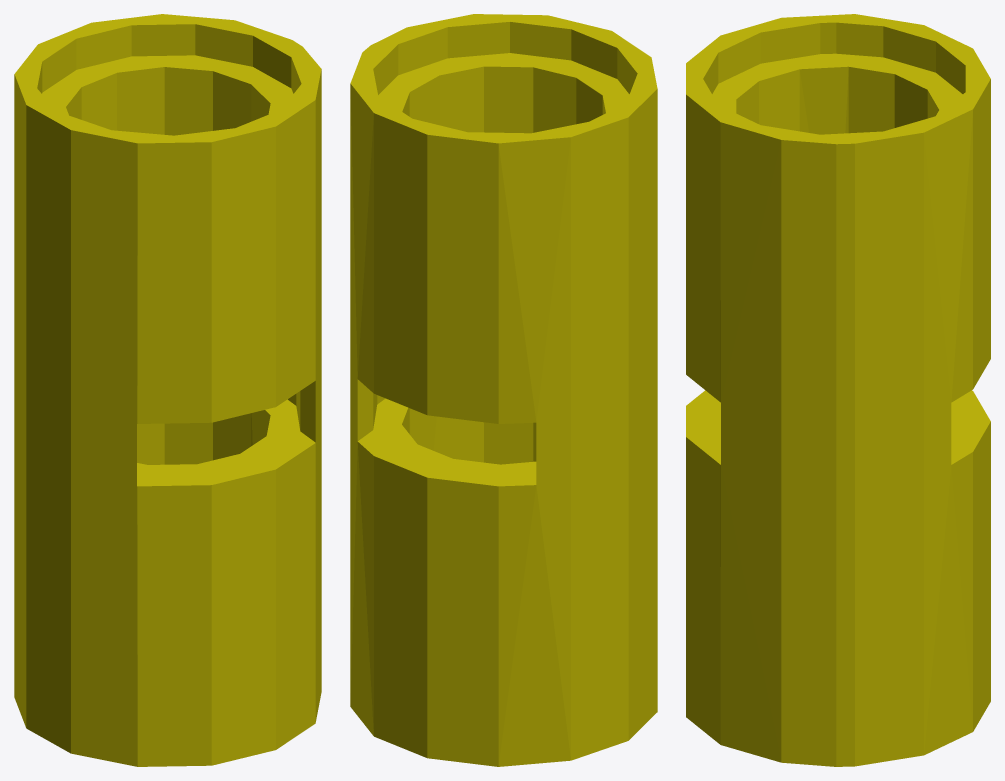
File: Ye_4526983_MCM.fbx
3 renders of one model, left to right at view 1: azimuth 30°, elevation 25°; view 2: azimuth 150°, elevation 25°; view 3: azimuth 270°, elevation 25°, orthographic.
Parts seen in each view (by area): view 1: Ye_4526983_MCM; view 2: Ye_4526983_MCM; view 3: Ye_4526983_MCM.
Part boxes in pixels (x1,y1,x2,y2): Ye_4526983_MCM: (14, 14, 321, 766); Ye_4526983_MCM: (350, 14, 657, 766); Ye_4526983_MCM: (686, 14, 990, 766).
Size of the model in its own units: 0.7174 by 1.6 by 0.7095.
